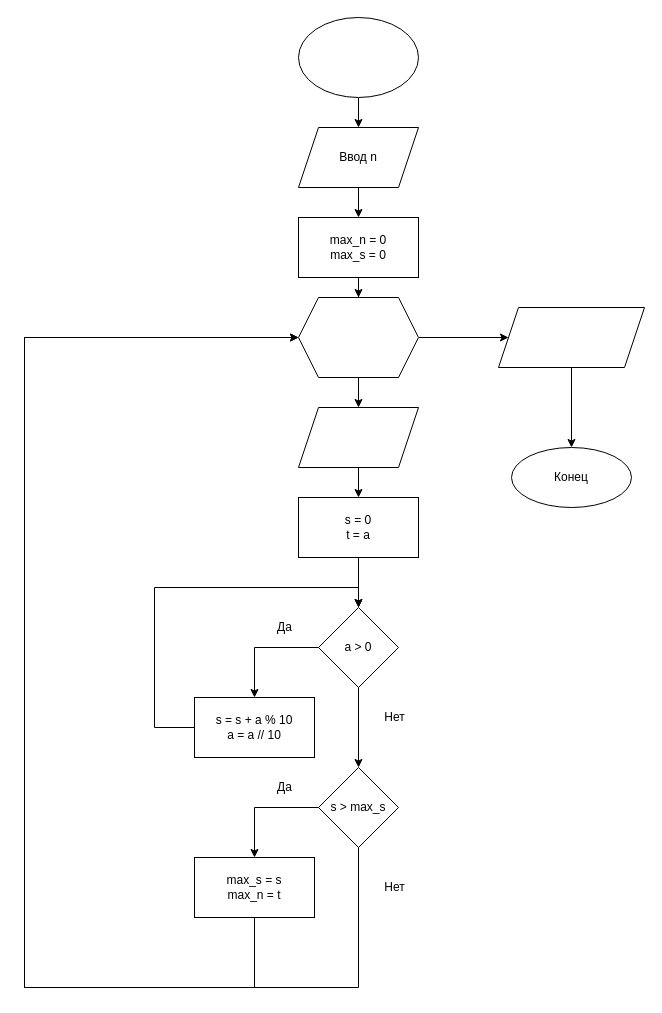
The diagram is 662 pixels wide and 1013 high, and some of its shapes have lost their labels. The shapes that lost their labels are listed below. From the top down, each one's centre as x and y in pixels, then its label:
At (358,57): "Начало".
At (358,337): "i = 0, n".
At (571,337): "Вывод max_n, max_s".
At (358,437): "Ввод a".
